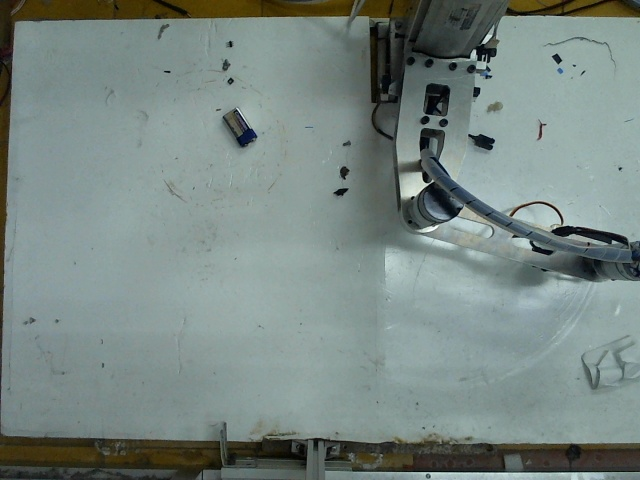battery: (219, 103, 253, 142)
